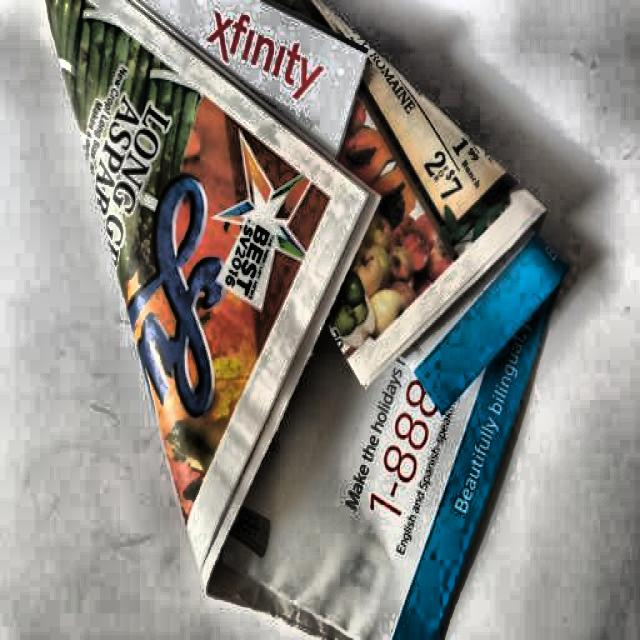paper: (40, 0, 517, 613)
